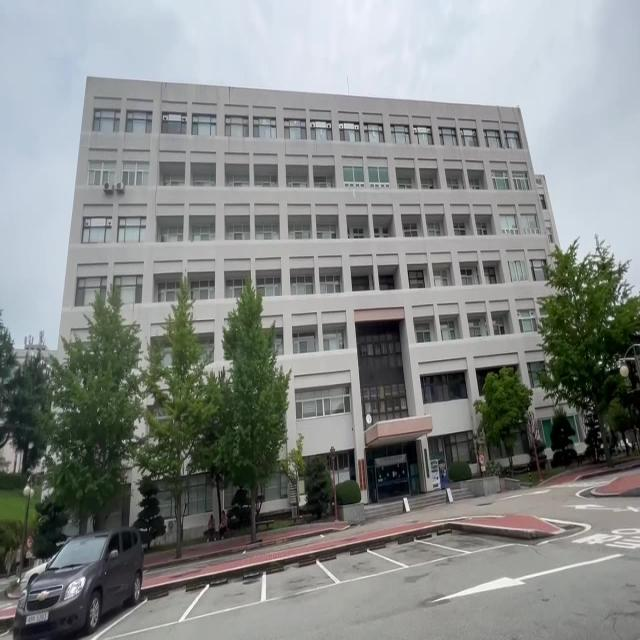building: (293, 119, 468, 548)
